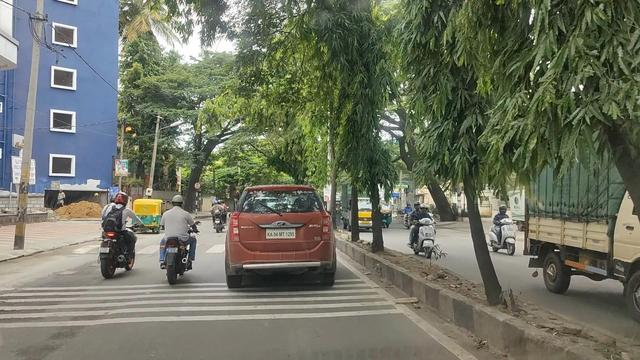LMV: (233, 188, 328, 281), (101, 192, 137, 273), (162, 196, 192, 283)
SpeedBump: (22, 282, 386, 327)
